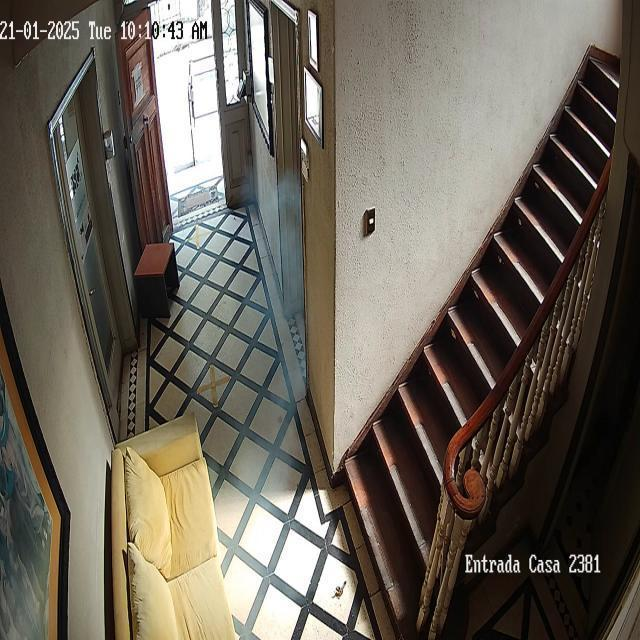fire: (194, 157, 303, 640)
